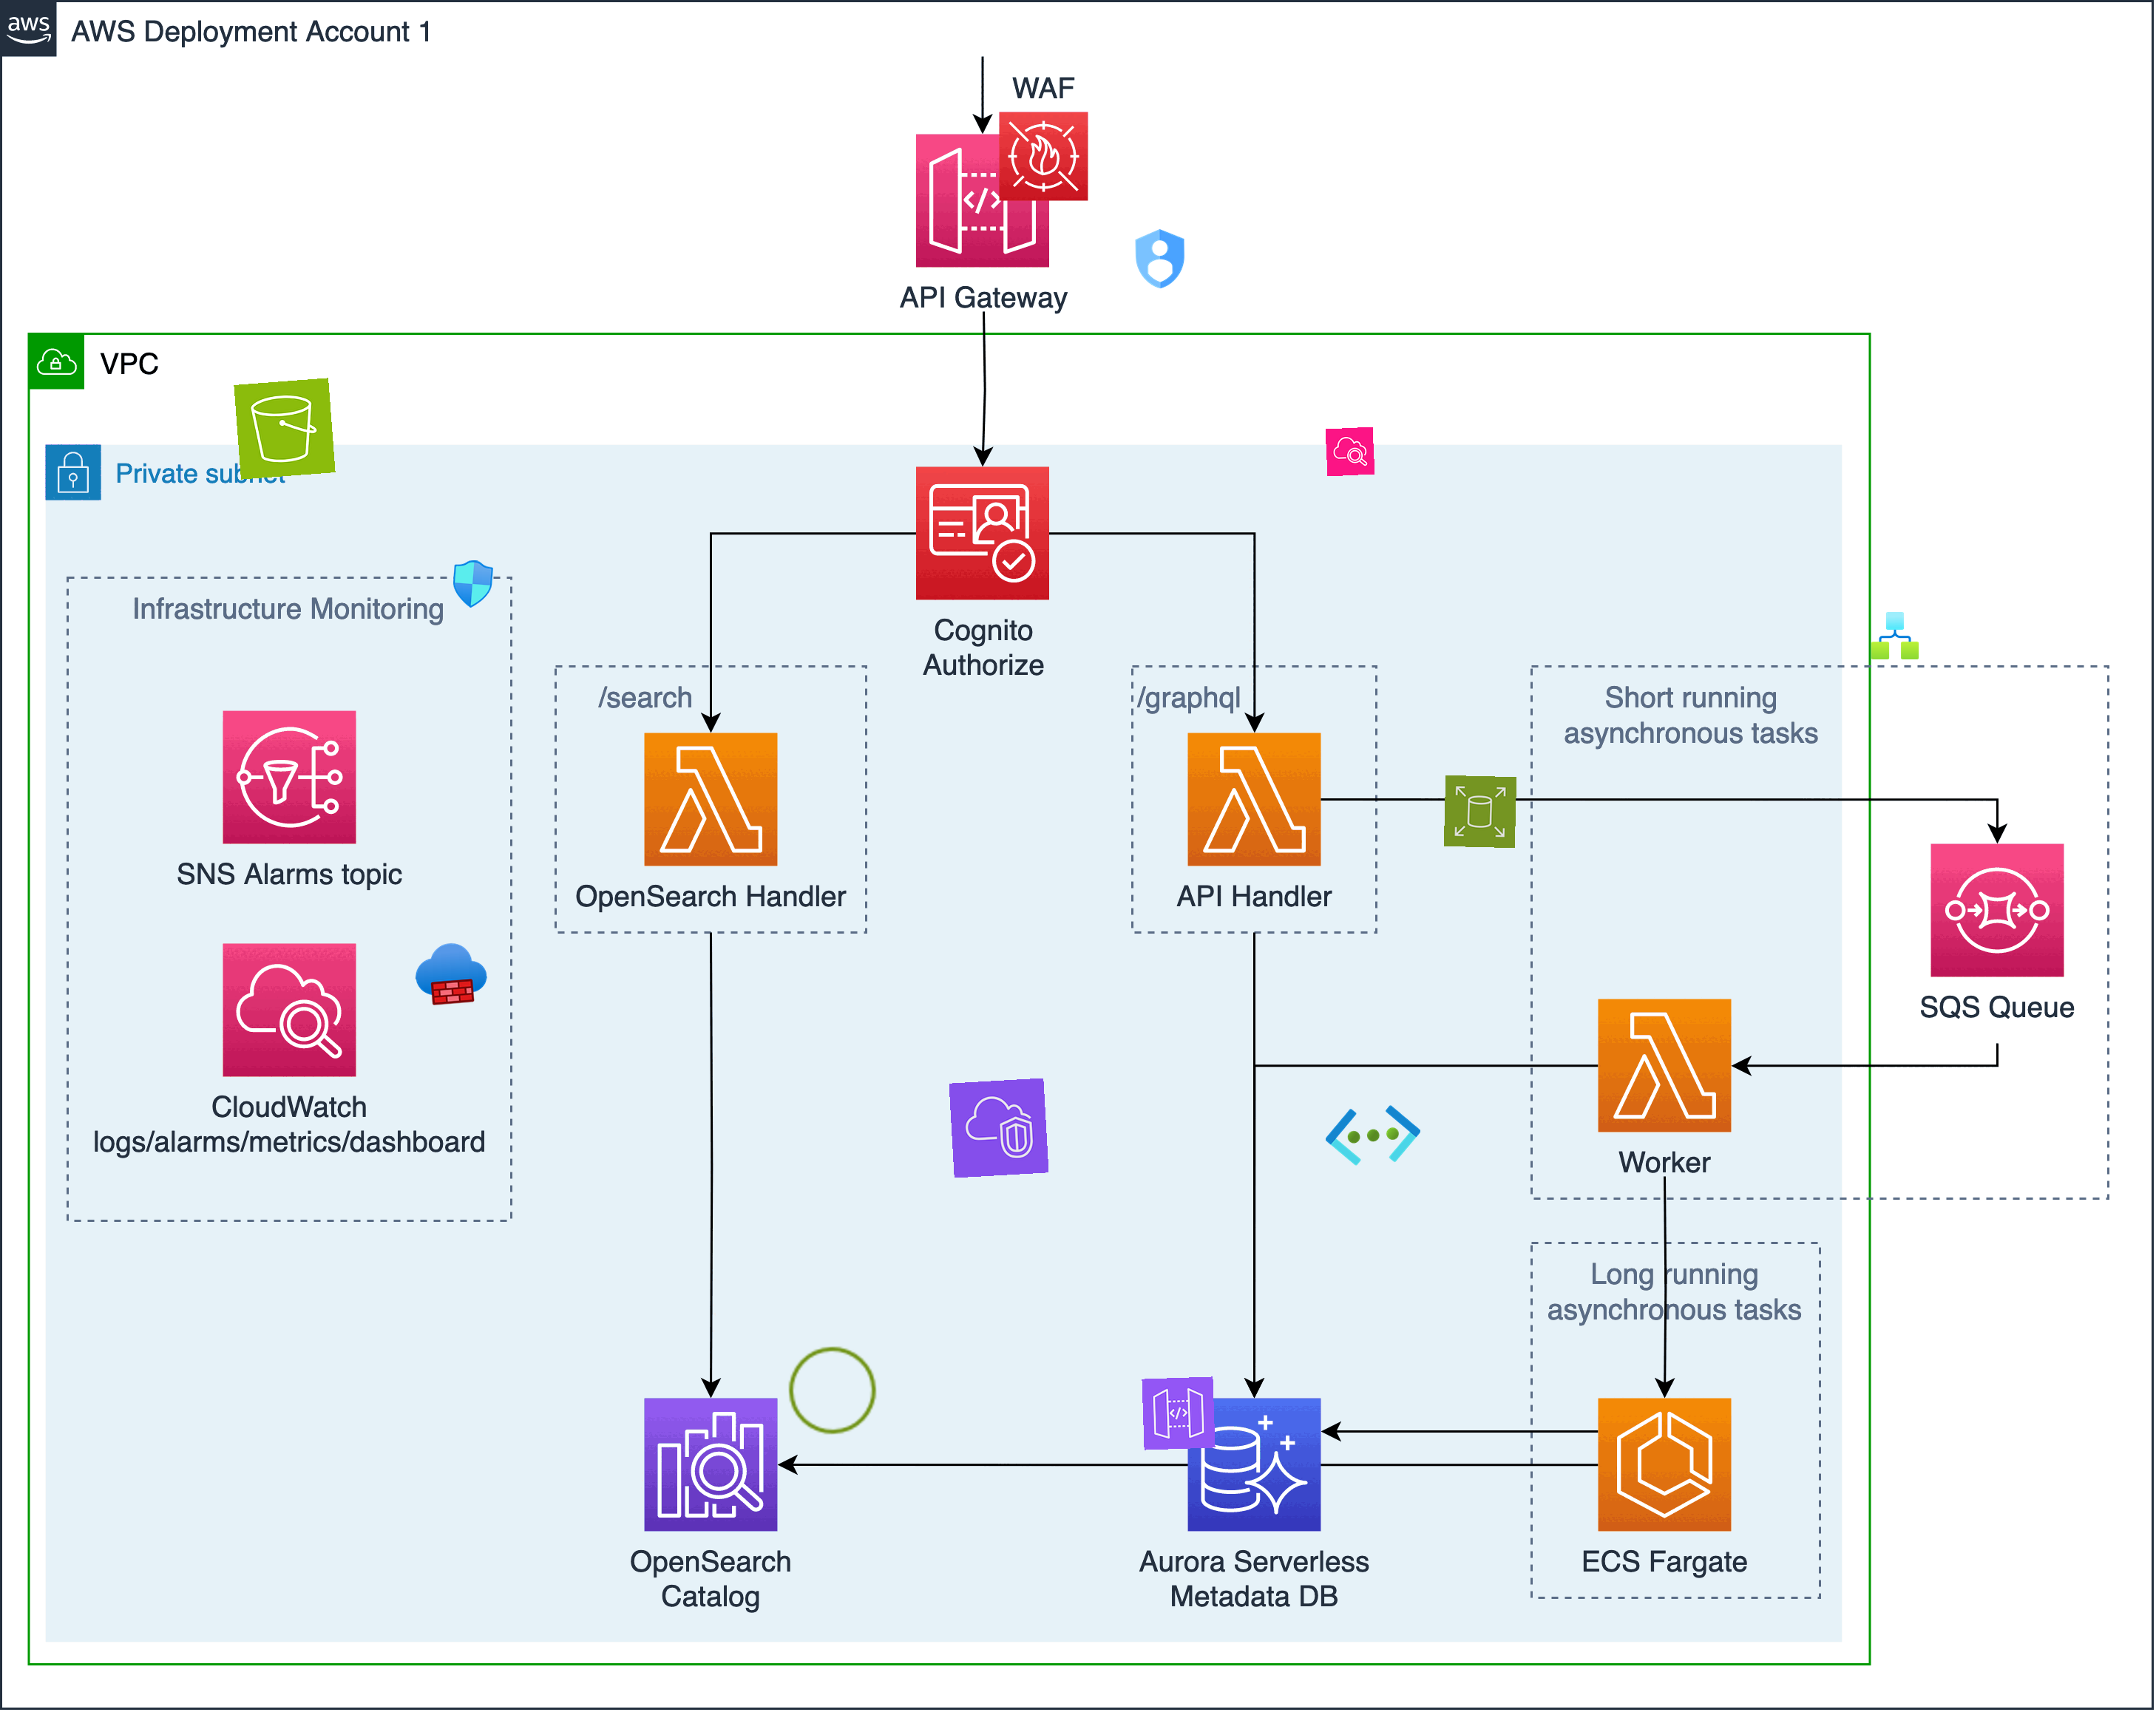aws_amazon_api_gateway: (1141, 1376, 1216, 1450)
aws_amazon_cloudwatch: (1325, 427, 1376, 477)
aws_amazon_elastic_block_store: (1444, 775, 1517, 848)
aws_amazon_simple_storage_service: (234, 378, 336, 479)
aws_amazon_virtual_private_cloud: (949, 1077, 1050, 1179)
aws_simple_storage_service_object: (784, 1341, 882, 1439)
azure_firewalls: (413, 936, 490, 1013)
azure_logic_apps: (1871, 612, 1920, 659)
azure_network_security_groups: (446, 558, 499, 610)
azure_virtual_networks: (1321, 1084, 1425, 1187)
gcp_identity_and_access_management: (1123, 222, 1197, 296)
